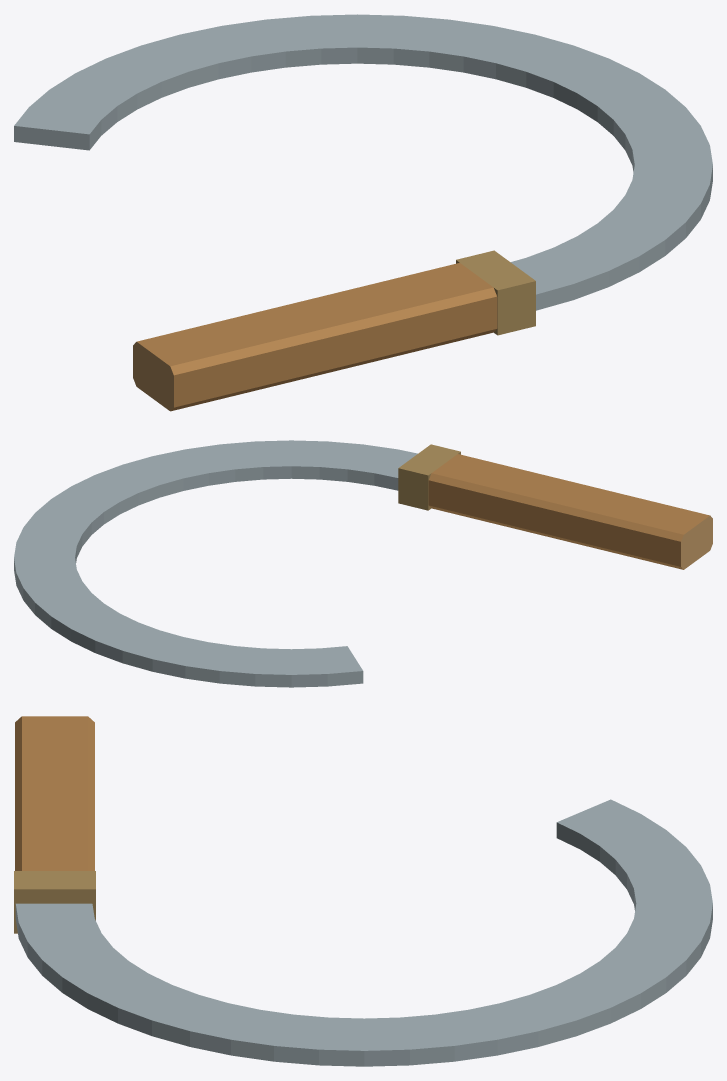
3 renders of one model, top to bottom at view 1: azimuth 30°, elevation 25°; view 2: azimuth 150°, elevation 25°; view 3: azimuth 270°, elevation 25°, orthographic. The views are drawn at different scales.
Visible parts, largest first — view 1: BroadOpenCrescentMetalBlade, ShortOctagonalWoodenGrip, SolidRectangularMetalCollar; view 2: BroadOpenCrescentMetalBlade, ShortOctagonalWoodenGrip, SolidRectangularMetalCollar; view 3: BroadOpenCrescentMetalBlade, ShortOctagonalWoodenGrip, SolidRectangularMetalCollar.
Part boxes in pixels (box(x1,y1,x2,y2)): BroadOpenCrescentMetalBlade: box(14, 14, 712, 310); ShortOctagonalWoodenGrip: box(133, 263, 497, 411); SolidRectangularMetalCollar: box(456, 250, 535, 335); BroadOpenCrescentMetalBlade: box(14, 440, 417, 687); ShortOctagonalWoodenGrip: box(428, 454, 712, 569); SolidRectangularMetalCollar: box(398, 444, 460, 510); BroadOpenCrescentMetalBlade: box(15, 799, 712, 1066); ShortOctagonalWoodenGrip: box(15, 716, 94, 870); SolidRectangularMetalCollar: box(14, 871, 95, 933).
Bounding box in the file's own units: 0.435 × 0.028 × 0.401.
